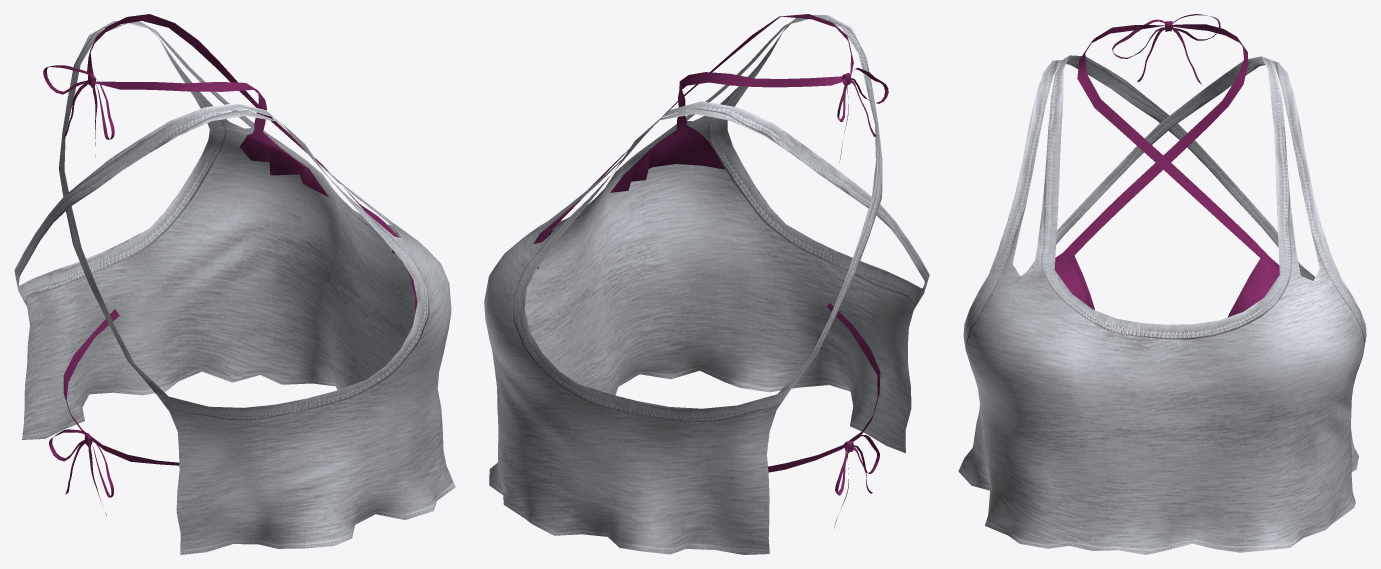
The picture shows the model from 3 angles, left to right: view 1: azimuth 30°, elevation 25°; view 2: azimuth 150°, elevation 25°; view 3: azimuth 270°, elevation 25°; orthographic projection. The views are drawn at different scales.
Visible parts, largest first — view 1: Top; view 2: Top; view 3: Top.
Part boxes in pixels (x1,y1,x2,y2): Top: (14,14,455,554); Top: (484,14,929,554); Top: (958,14,1366,554).
Size of the model in its own units: 0.4609 by 0.5929 by 0.5311.
1 material, 1 textured.
